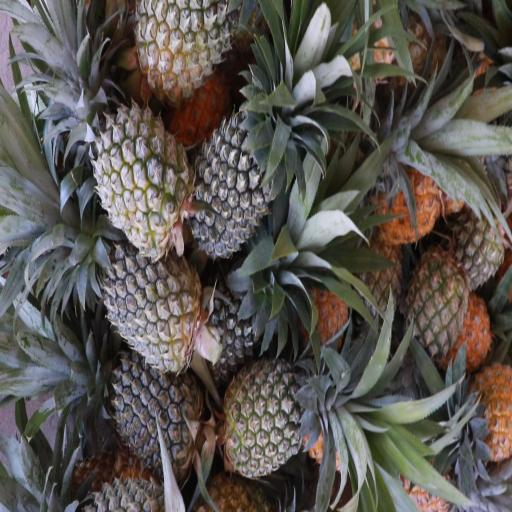------------------------------: (99, 107, 187, 259), (224, 356, 322, 475), (140, 0, 241, 95), (406, 251, 470, 355)
Pineapple - v8 v1: (380, 146, 446, 241), (466, 361, 511, 459)
